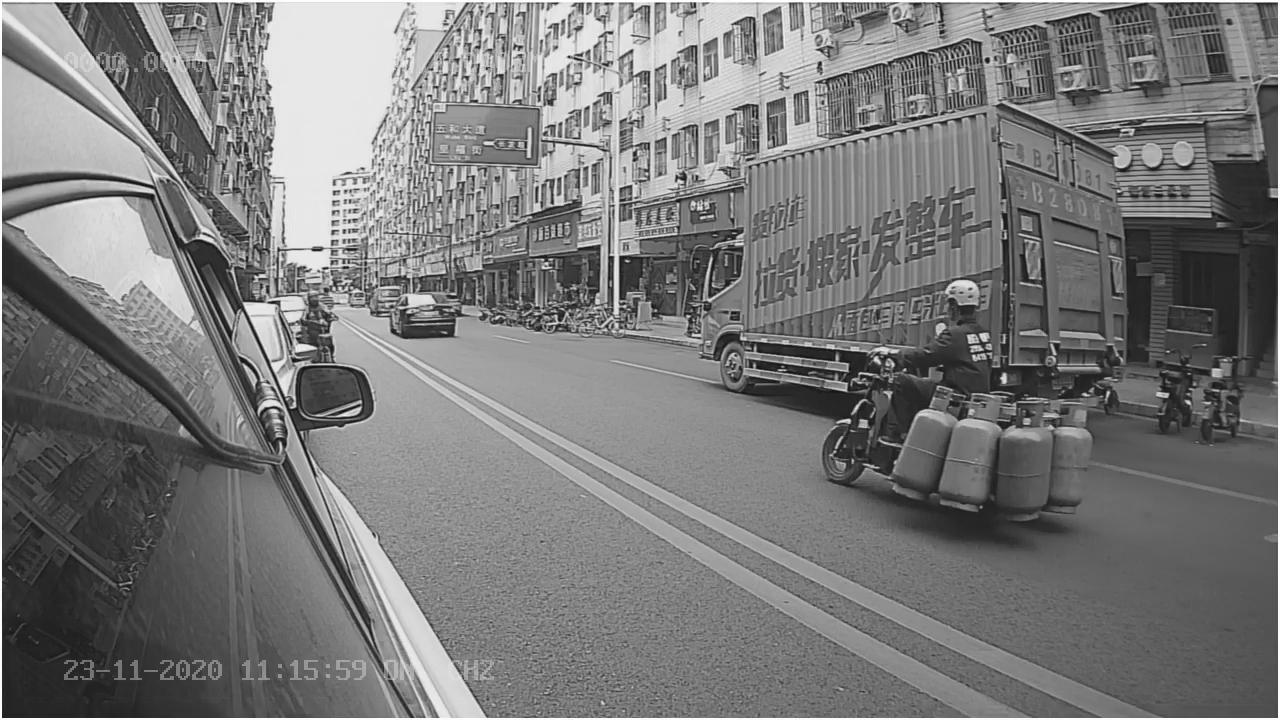person: (919, 280, 1004, 391)
